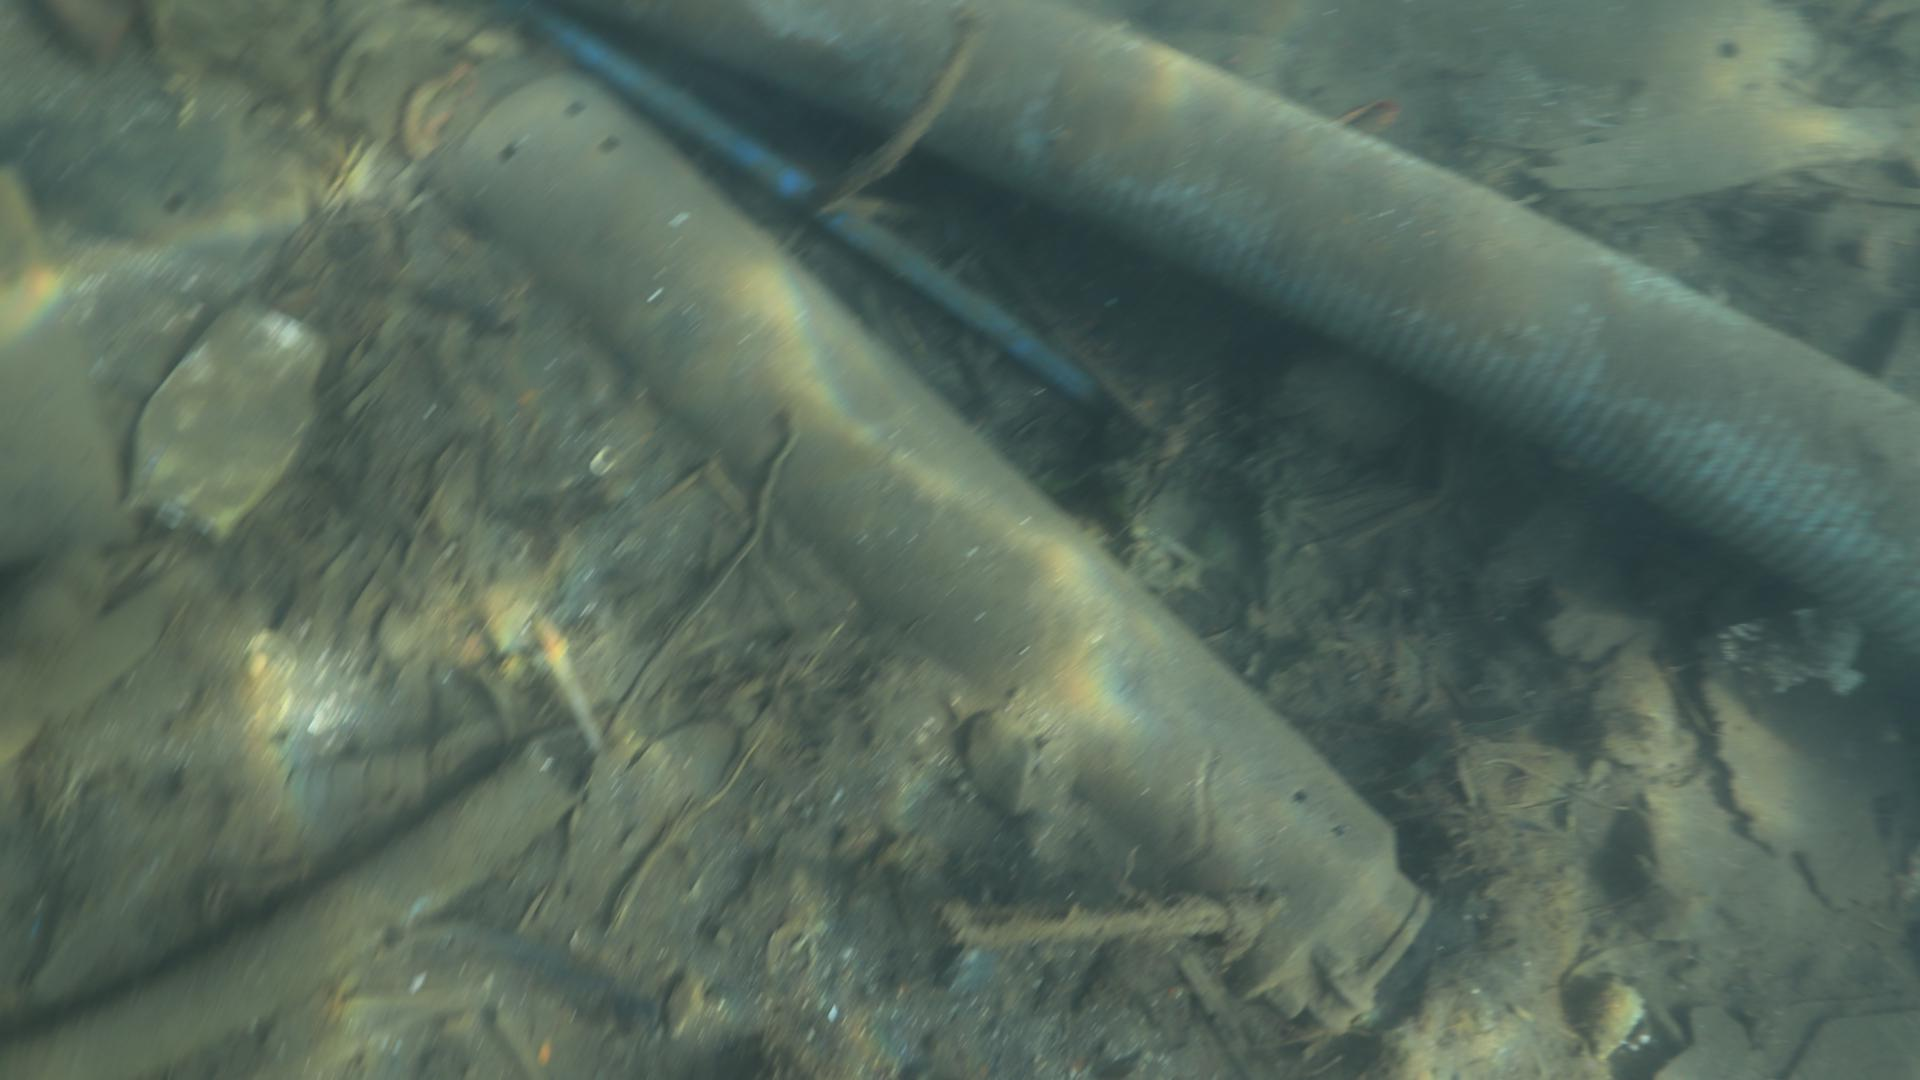eel fish trap: (426, 44, 1441, 1038)
